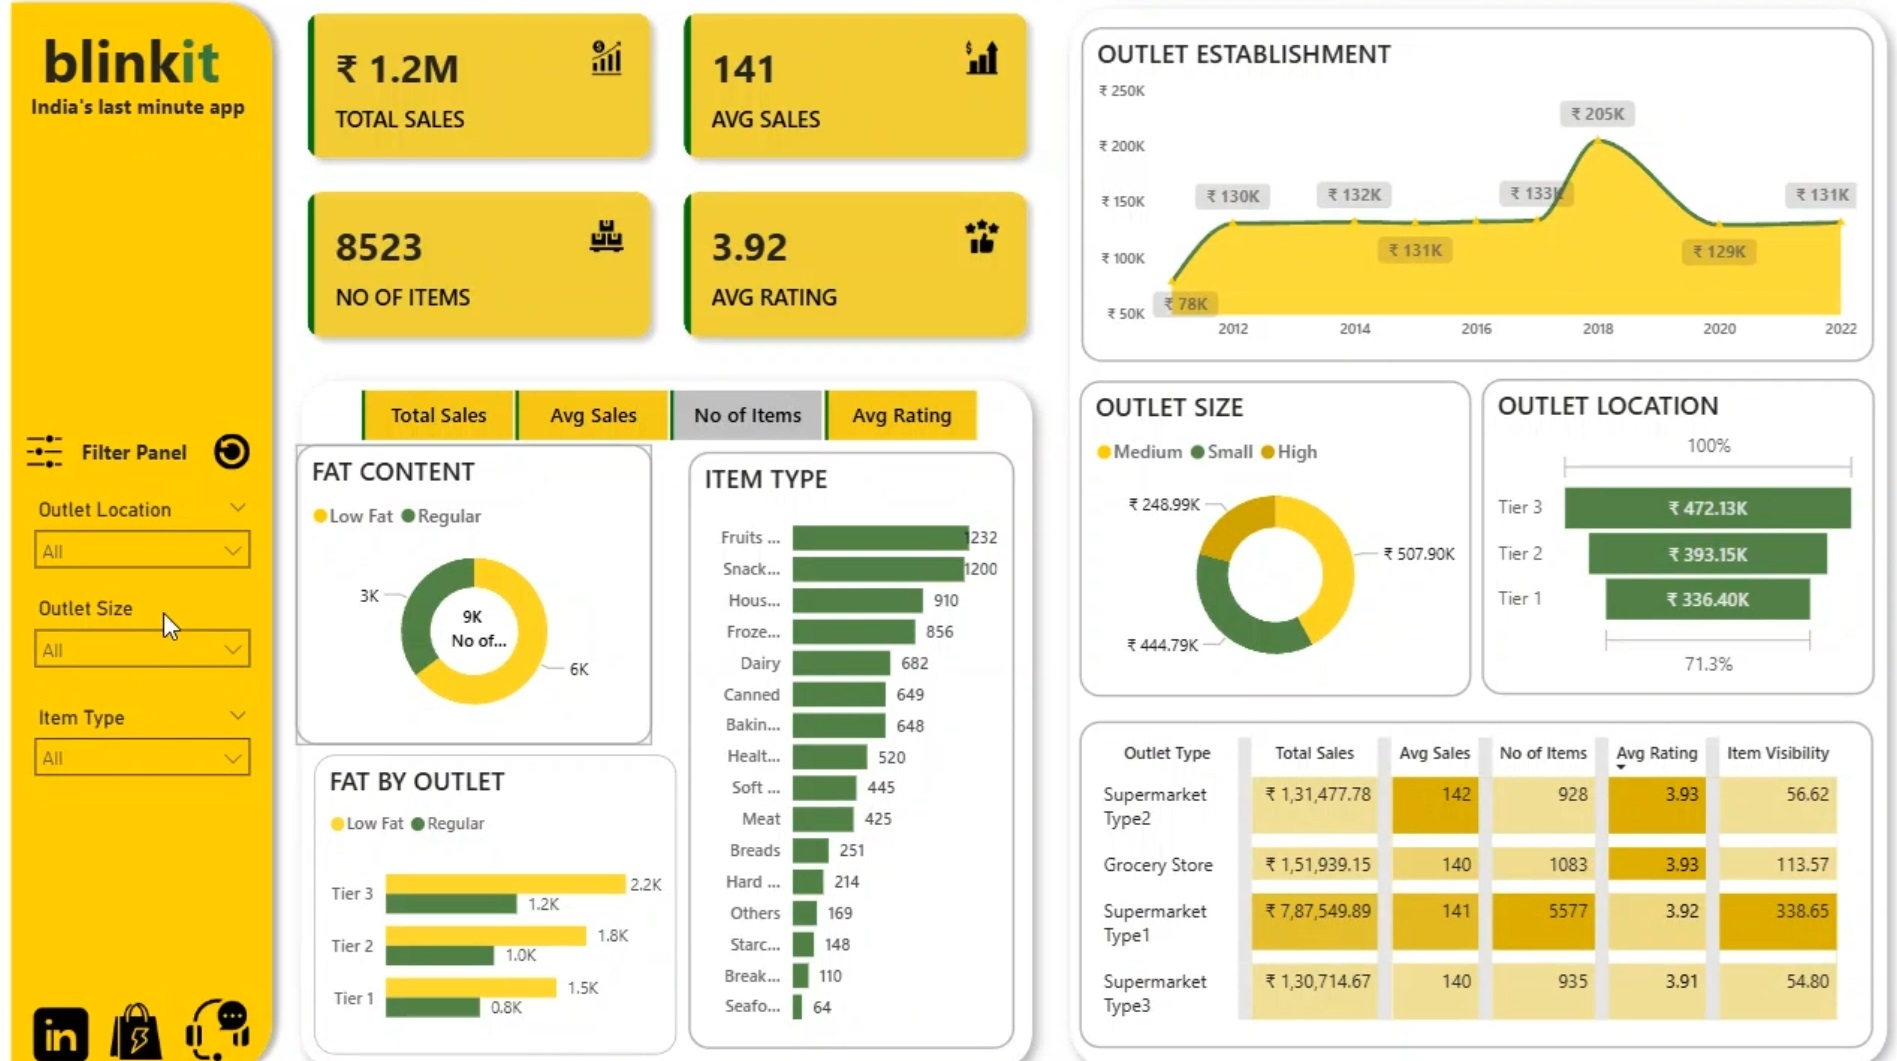

What the dashboard file says about the page in this screenshot:
{"tool":"powerbi","page":{"name":"Page 1","canvas":[1400,800],"ordinal":0},"visuals":[{"type":"shape","box":[0,0,208.6,800],"z":0},{"type":"textbox","box":[27.8,15.9,160.2,80.7],"z":1000},{"type":"textbox","box":[18.5,70.2,176,31.8],"z":2000},{"type":"cardVisual","fields":{"Data":["BlinkIT Grocery Data.Total Sales","BlinkIT Grocery Data.Avg Sales","BlinkIT Grocery Data.No of Items","BlinkIT Grocery Data.Avg Rating"]},"box":[208.6,0,558.6,271.4],"z":3000},{"type":"shape","box":[207.1,271.4,560,528.6],"z":4000},{"type":"cardVisual","fields":{"Data":["BlinkIT Grocery Data.Total Sales"]},"box":[298.6,421.3,94.1,88.6],"z":5000},{"type":"donutChart","title":"FAT CONTENT","fields":{"Y":["BlinkIT Grocery Data.Total Sales"],"Category":["BlinkIT Grocery Data.Item Fat Content"]},"box":[216.8,331.3,260.4,219.5],"z":6000},{"type":"slicer","fields":{"Values":["Parameter.Parameter"]},"box":[238.9,285,498.6,50],"z":7000},{"type":"clusteredBarChart","title":"FAT BY OUTLET","fields":{"Y":["BlinkIT Grocery Data.Total Sales"],"Category":["BlinkIT Grocery Data.Outlet Location Type"],"Series":["BlinkIT Grocery Data.Item Fat Content"]},"box":[230,557.5,263.8,218.8],"z":8000},{"type":"barChart","title":"ITEM TYPE","fields":{"Y":["BlinkIT Grocery Data.Total Sales"],"Category":["BlinkIT Grocery Data.Item Type"]},"box":[502.5,336.2,237.5,435],"z":9000},{"type":"shape","box":[767.1,0,622.9,800],"z":10000},{"type":"areaChart","title":"OUTLET ESTABLISHMENT","fields":{"Y":["BlinkIT Grocery Data.Total Sales"],"Category":["BlinkIT Grocery Data.Outlet Establishment Year"]},"box":[790,27.5,577.5,243.8],"z":11000},{"type":"donutChart","title":"OUTLET SIZE","fields":{"Y":["BlinkIT Grocery Data.Total Sales"],"Category":["BlinkIT Grocery Data.Outlet Size"]},"box":[788.6,284.3,285.7,230],"z":12000},{"type":"funnel","title":"OUTLET LOCATION","fields":{"Category":["BlinkIT Grocery Data.Outlet Location Type","BlinkIT Grocery Data.Outlet Identifier"],"Y":["BlinkIT Grocery Data.Total Sales"]},"box":[1081.2,283.8,286.2,230],"z":13000},{"type":"tableEx","fields":{"Values":["BlinkIT Grocery Data.Outlet Type","BlinkIT Grocery Data.Total Sales","BlinkIT Grocery Data.Avg Sales","BlinkIT Grocery Data.No of Items","BlinkIT Grocery Data.Avg Rating","Sum(BlinkIT Grocery Data.Item Visibility)"]},"box":[788.6,532.9,578.6,238.6],"z":14000},{"type":"slicer","title":"OUTLET LOCATIONS","fields":{"Values":["BlinkIT Grocery Data.Outlet Location Type"]},"box":[15.9,365.3,177.4,72.8],"z":15000},{"type":"slicer","title":"OUTLET LOCATIONS","fields":{"Values":["BlinkIT Grocery Data.Outlet Size"]},"box":[15.9,438.1,177.4,72.8],"z":16000},{"type":"slicer","title":"OUTLET LOCATIONS","fields":{"Values":["BlinkIT Grocery Data.Item Type"]},"box":[15.9,516.2,177.4,72.8],"z":17000},{"type":"image","box":[14,319,40,35],"z":18000},{"type":"textbox","box":[55.6,321.6,97.9,30.4],"z":19000},{"type":"image","box":[153,319,35,35],"z":20000},{"type":"image","title":"Shop Now","box":[67.5,730.7,64.9,56.9],"z":21000},{"type":"image","box":[17.2,735.9,55.6,51.6],"z":22000},{"type":"image","box":[132.4,730.7,55.6,55.6],"z":23000}]}

Visuals, with their boxes on the page's 1400x800 design canvas (x1, y1, x2, y2). These are canvas units, not pixel positions in the 1897x1061 screenshot, which may show the page scaled, cropped or inside an application window:
shape: <region>0, 0, 209, 800</region>
textbox: <region>28, 16, 188, 97</region>
textbox: <region>18, 70, 194, 102</region>
cardVisual - BlinkIT Grocery Data.Total Sales x BlinkIT Grocery Data.Avg Sales: <region>209, 0, 767, 271</region>
shape: <region>207, 271, 767, 800</region>
cardVisual - BlinkIT Grocery Data.Total Sales: <region>299, 421, 393, 510</region>
"FAT CONTENT" donutChart: <region>217, 331, 477, 551</region>
slicer - Parameter.Parameter: <region>239, 285, 738, 335</region>
"FAT BY OUTLET" clusteredBarChart: <region>230, 558, 494, 776</region>
"ITEM TYPE" barChart: <region>502, 336, 740, 771</region>
shape: <region>767, 0, 1390, 800</region>
"OUTLET ESTABLISHMENT" areaChart: <region>790, 28, 1368, 271</region>
"OUTLET SIZE" donutChart: <region>789, 284, 1074, 514</region>
"OUTLET LOCATION" funnel: <region>1081, 284, 1367, 514</region>
tableEx - BlinkIT Grocery Data.Outlet Type x BlinkIT Grocery Data.Total Sales: <region>789, 533, 1367, 772</region>
"OUTLET LOCATIONS" slicer: <region>16, 365, 193, 438</region>
"OUTLET LOCATIONS" slicer: <region>16, 438, 193, 511</region>
"OUTLET LOCATIONS" slicer: <region>16, 516, 193, 589</region>
image: <region>14, 319, 54, 354</region>
textbox: <region>56, 322, 154, 352</region>
image: <region>153, 319, 188, 354</region>
"Shop Now" image: <region>68, 731, 132, 788</region>
image: <region>17, 736, 73, 788</region>
image: <region>132, 731, 188, 786</region>
